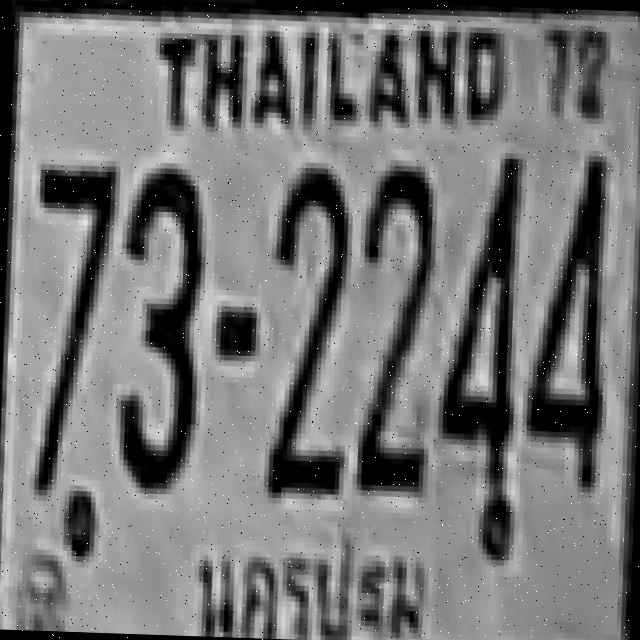2: (261, 262, 344, 492)
3: (114, 172, 204, 490), (114, 210, 202, 490)
4: (520, 148, 606, 476), (434, 148, 520, 454)
7: (30, 158, 116, 351)
NakhonPathom: (176, 522, 441, 640)
